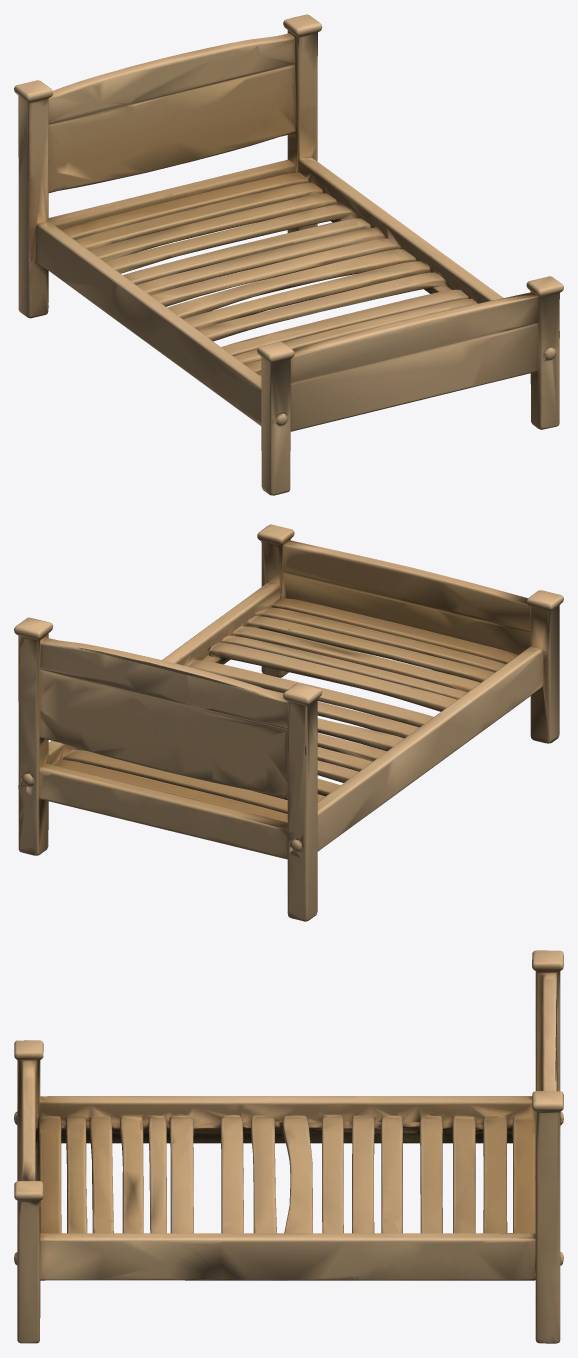
File: bed-frame.glb
3 renders of one model, top to bottom at view 1: azimuth 30°, elevation 25°; view 2: azimuth 150°, elevation 25°; view 3: azimuth 270°, elevation 25°, orthographic. The views are drawn at different scales.
Visible parts, largest first — view 1: node_0; view 2: node_0; view 3: node_0.
Part boxes in pixels (bbox=[...]): node_0: bbox=[14, 14, 563, 495]; node_0: bbox=[14, 524, 563, 921]; node_0: bbox=[14, 950, 563, 1343].
Size of the model in its own units: 0.6202 by 0.4527 by 0.9329.
Materials: 1 (1 with a texture image).
